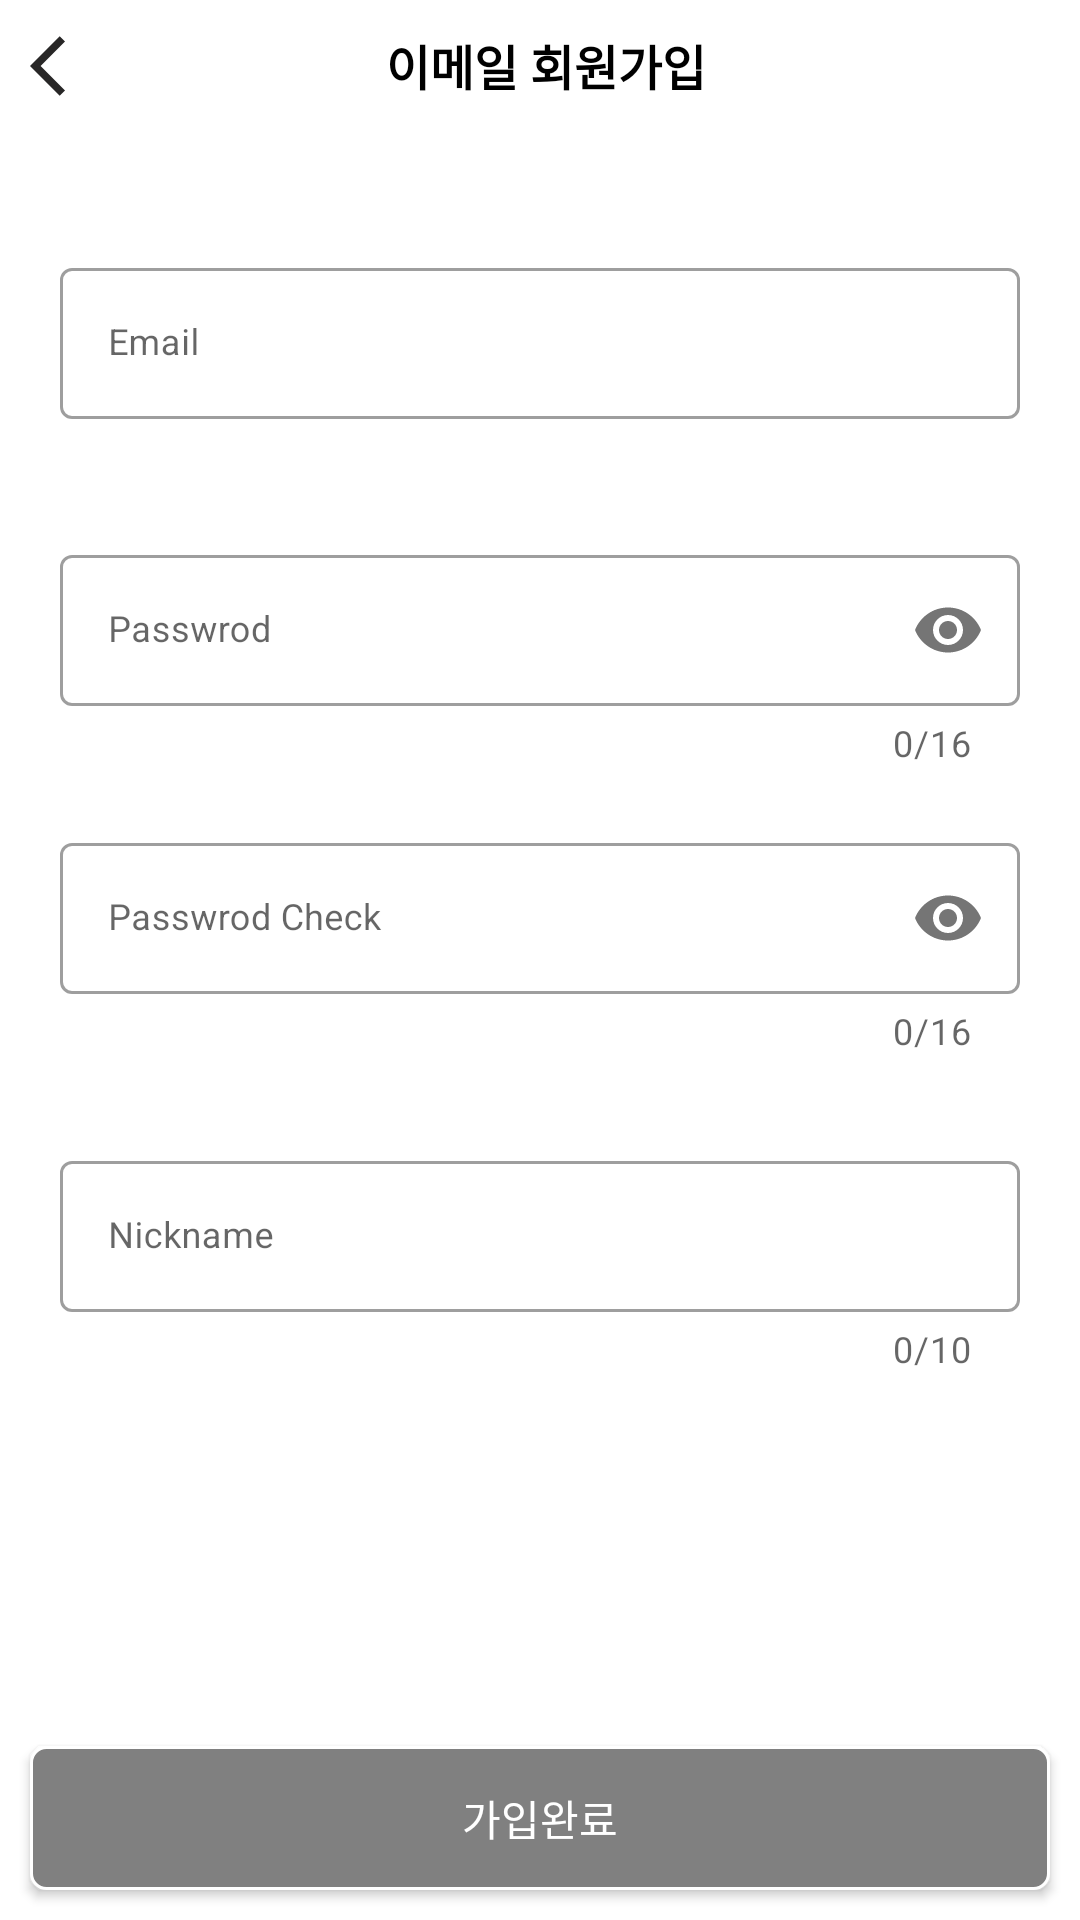

Icon click points for this 1080 × 1920 phone screenshot, format (x=x, y=y):
back: (x=47, y=66)
